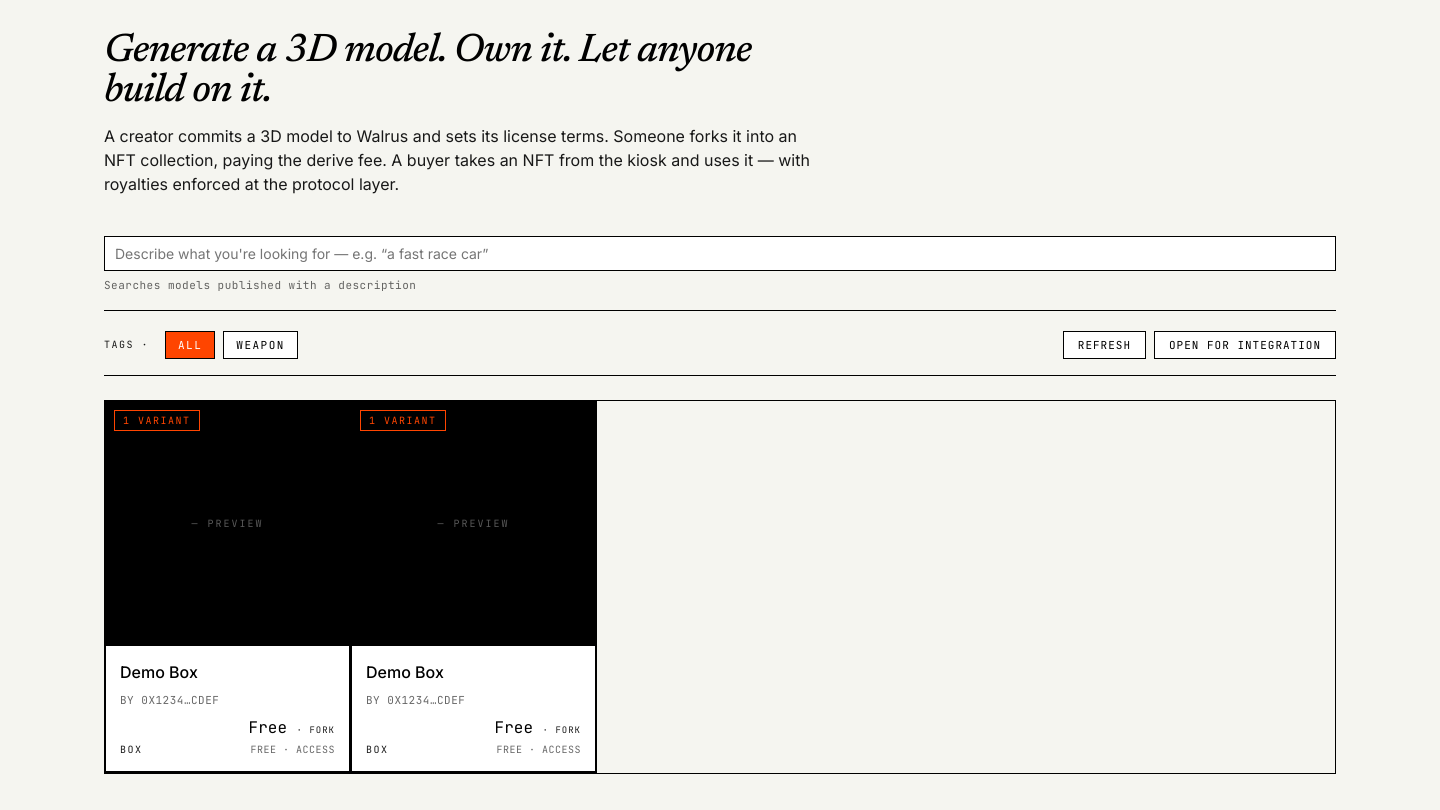
Test: BrowsePage › AE1: a semantic match promotes its collection to the front with a reason, others stay visible
Type "race car" into the field with test id "browse-search-input" at (720, 254), box [104,236,1336,271]
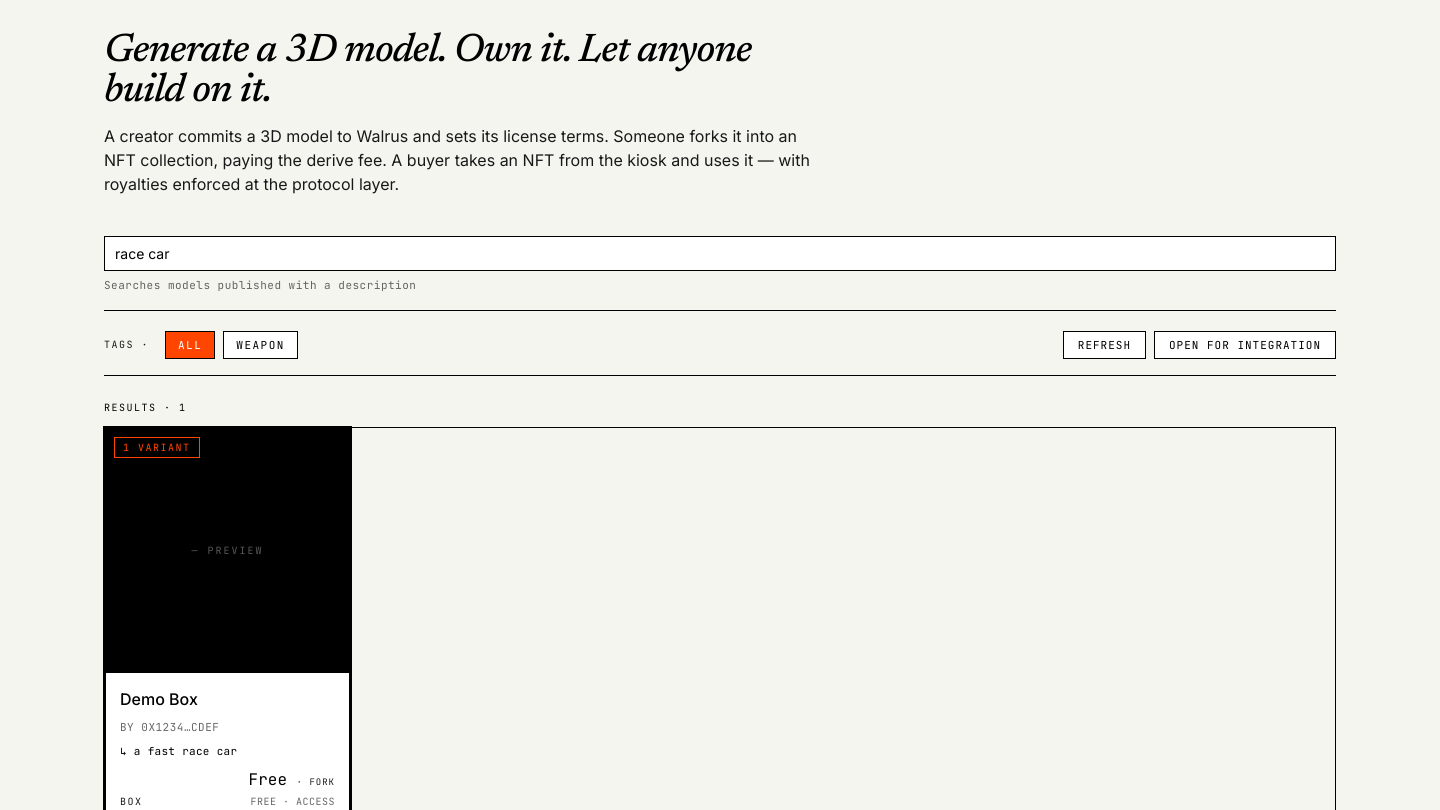
Check: the text with test id "collection-card-match-reason" shows "a fast race car", box [134,744,237,758]
